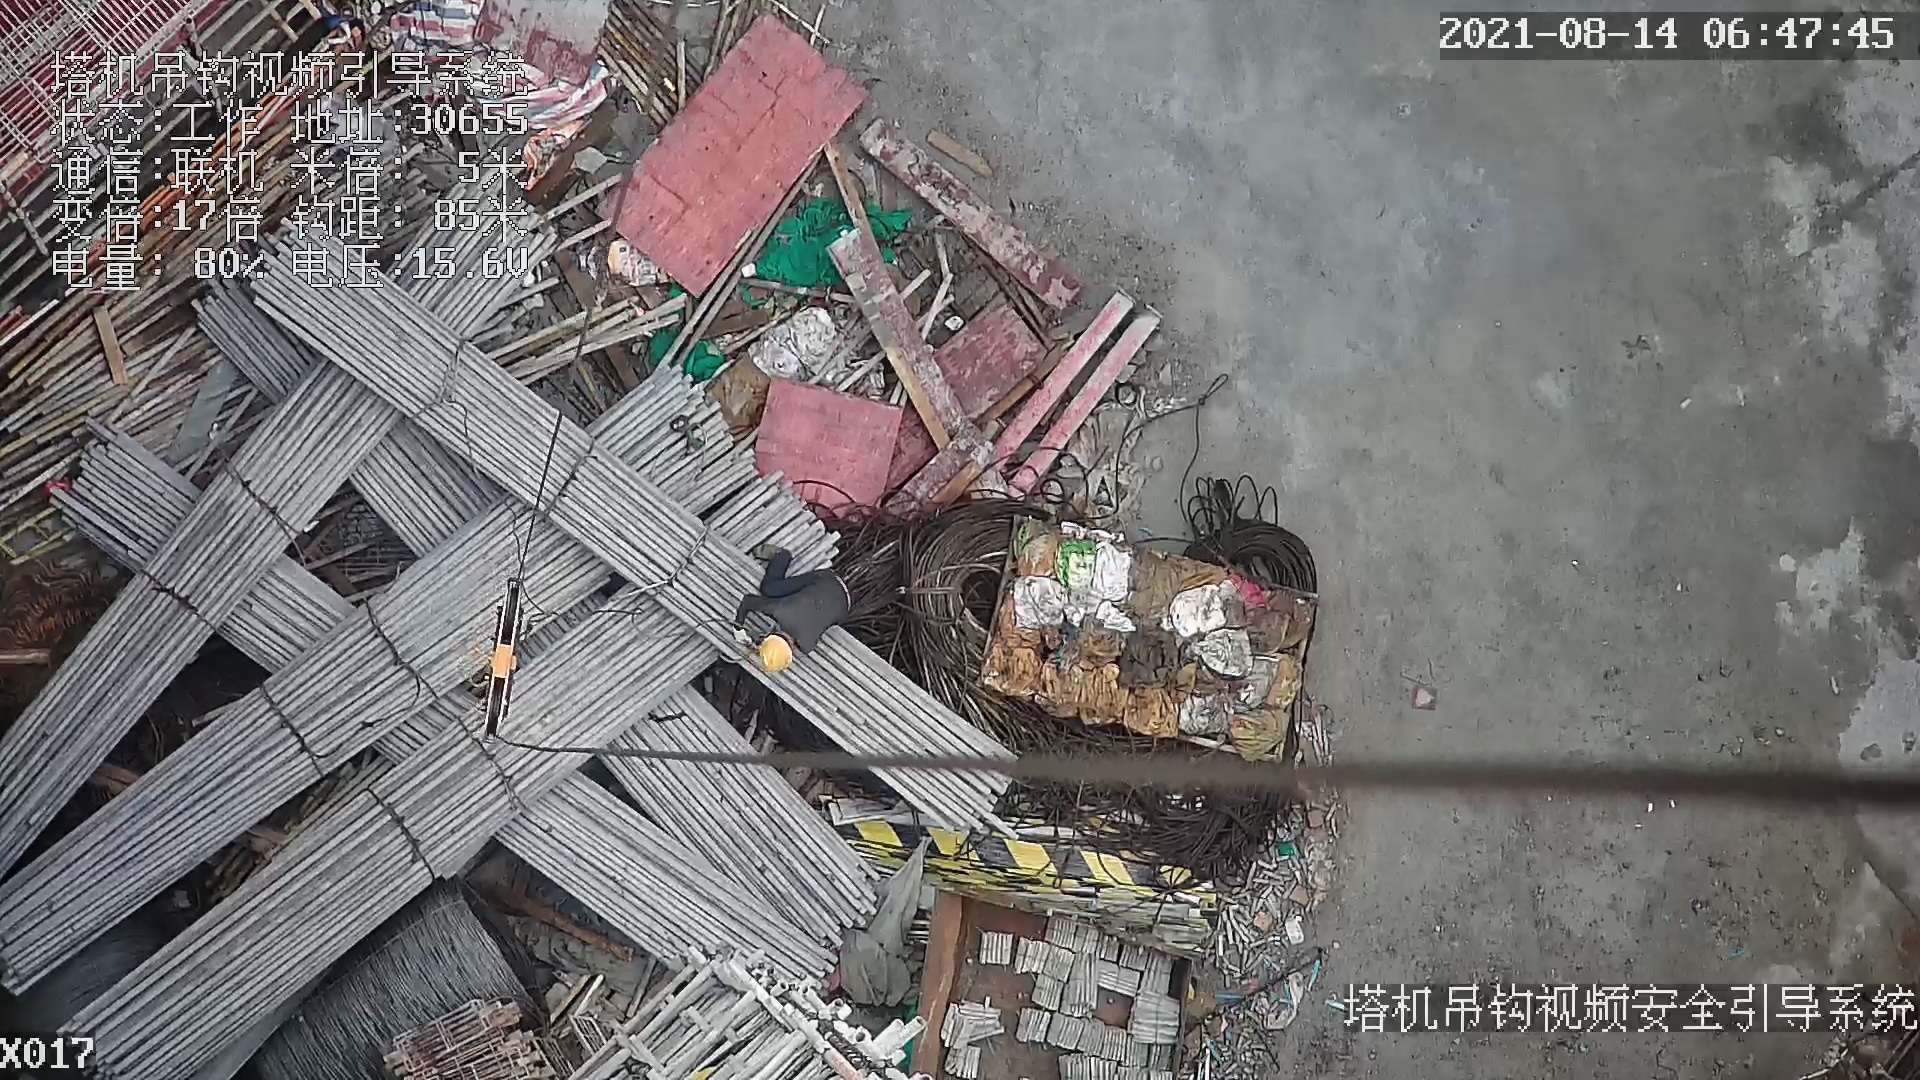board: (589, 8, 864, 298)
helmet: (756, 638, 796, 672)
hook: (468, 572, 540, 755)
person: (727, 536, 862, 669)
